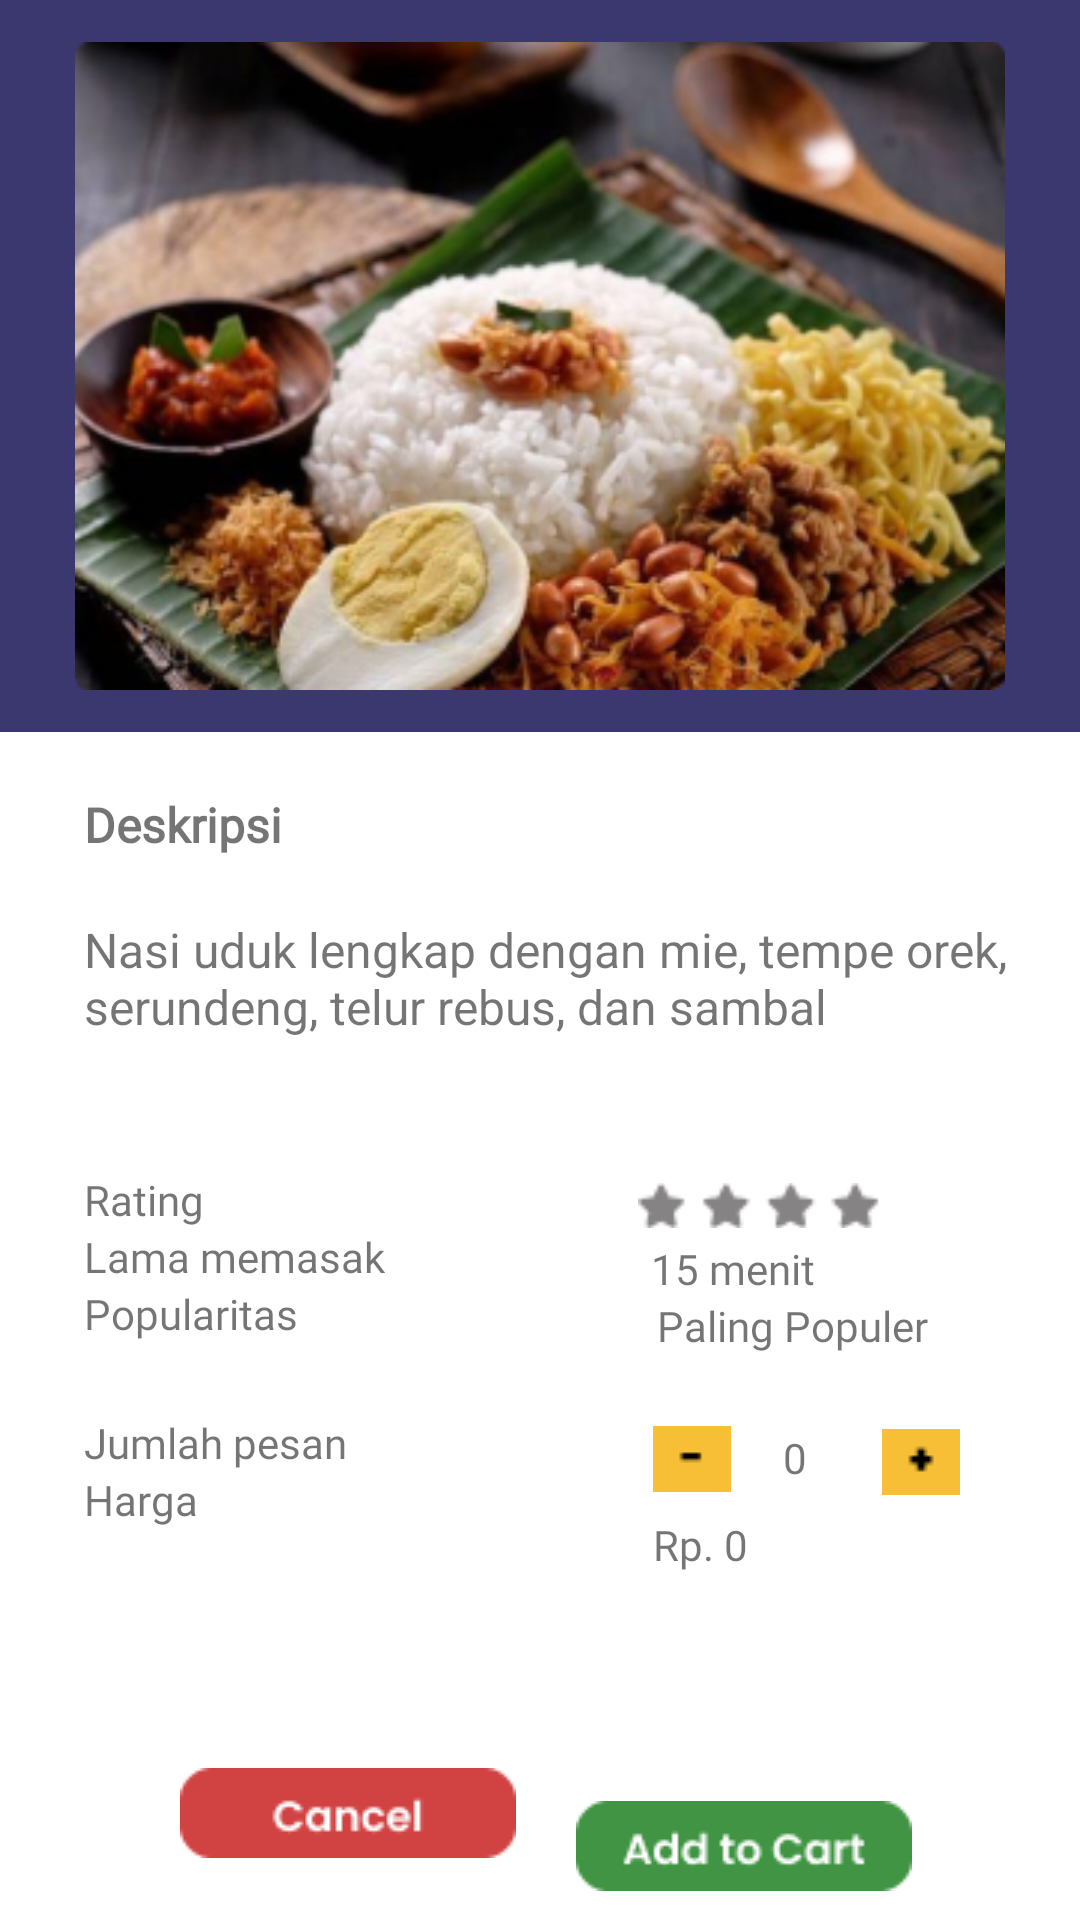

Icons on this 1080 x 1920 Android screen, each with its box as (left=x1, top=y1, right=x2, bottom=y2):
bintang: (left=638, top=1183, right=879, bottom=1228)
minusbutton: (left=653, top=1426, right=731, bottom=1492)
plusbutton: (left=882, top=1429, right=960, bottom=1495)
